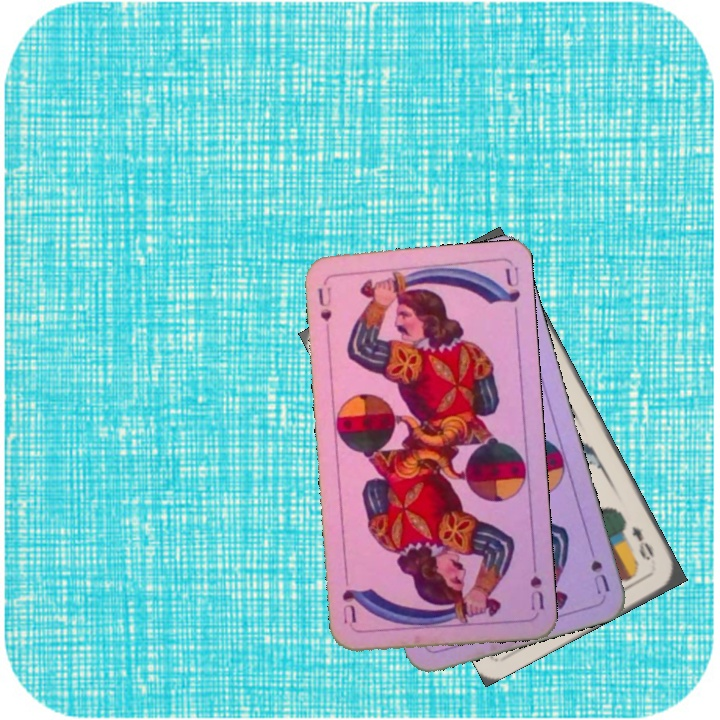EO: (627, 522, 657, 563)
SU: (583, 539, 613, 597), (526, 554, 547, 613), (314, 283, 334, 338)
